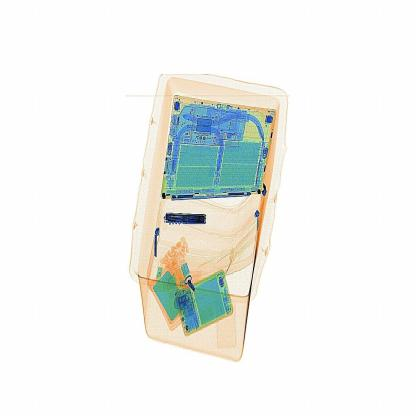scissors: (160, 207, 211, 229)
